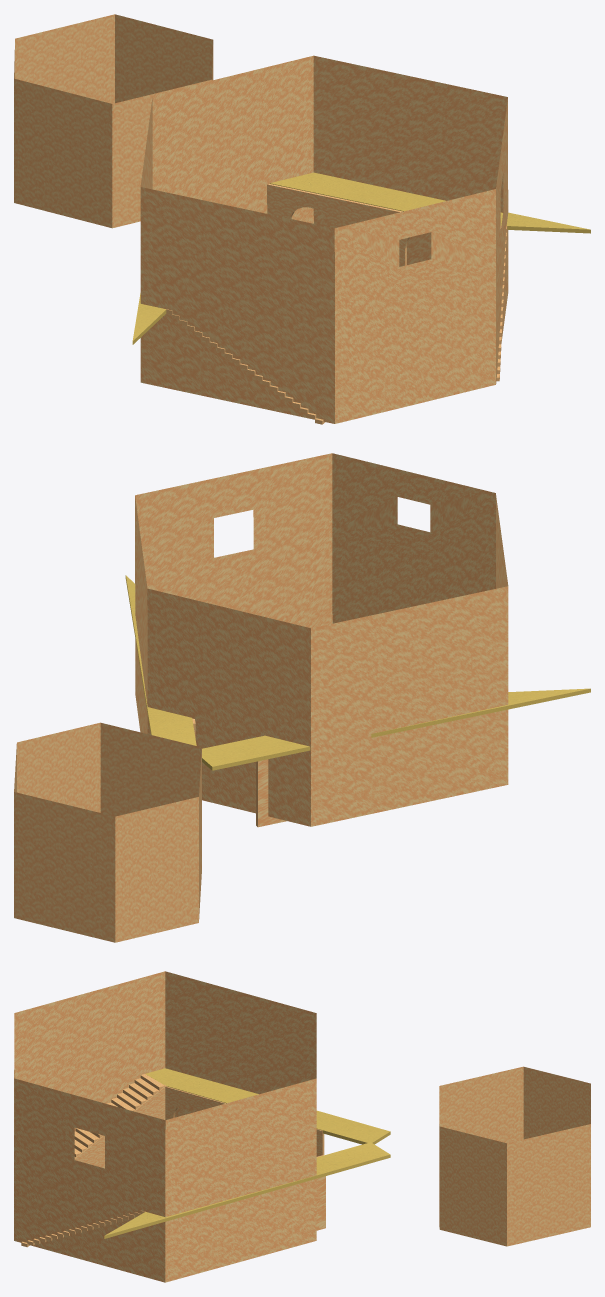
The model's file is room.fbx.
3 renders of one model, top to bottom at view 1: azimuth 30°, elevation 25°; view 2: azimuth 150°, elevation 25°; view 3: azimuth 270°, elevation 25°, orthographic. The views are drawn at different scales.
Visible parts, largest first — view 1: pPlane1, pPlane2, pCube23, pCube41, stairer2, pCube22; view 2: pPlane1, pPlane2, pCube22, pCube23, pCube35; view 3: pPlane1, pPlane2, pCube22, pCube23, stairer2, pCube35, pCube24, stairer3, pCube41.
Part boxes in pixels (x1,y1,x2,y2): pPlane1: (140,55,508,423); pPlane2: (14,14,213,228); pCube23: (270,172,590,233); pCube41: (267,184,431,266); stairer2: (166,309,325,424); pCube22: (132,293,166,344); pPlane1: (135,453,508,826); pPlane2: (14,722,201,942); pCube22: (202,688,590,770); pCube23: (125,575,196,745); pCube35: (256,759,286,827); pPlane1: (14,971,316,1282); pPlane2: (439,1066,590,1246); pCube22: (145,1068,390,1144); pCube23: (104,1142,390,1238); stairer2: (74,1074,164,1158); pCube35: (165,1086,324,1156); pCube24: (74,1084,165,1167); stairer3: (21,1210,145,1247); pCube41: (316,1155,325,1230).
Bounding box in the file's own units: 12.47 × 5.31 × 16.37.
